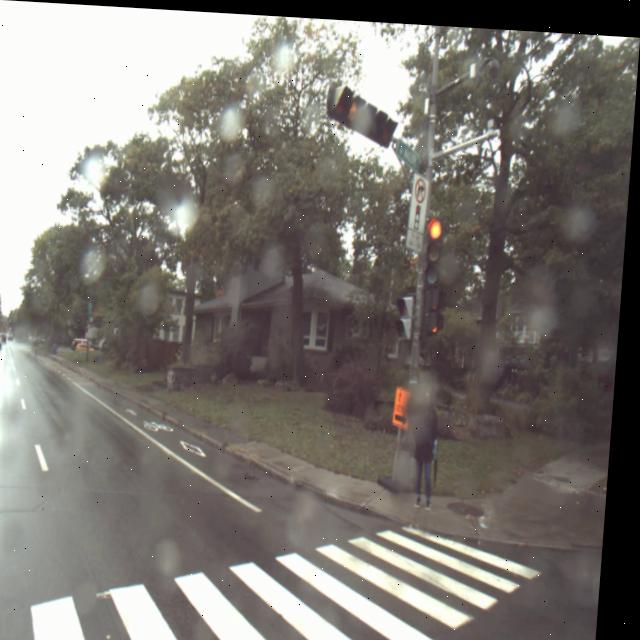car: (0, 331, 8, 351)
pedestrian: (417, 383, 450, 505)
trafficLight: (327, 75, 400, 149), (425, 211, 450, 310)
